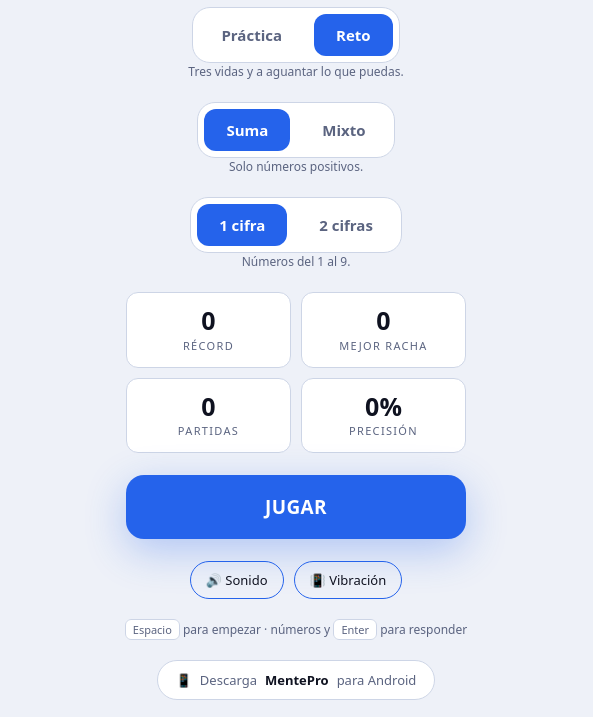
Scenario: MenteRush end to end › agotar el tiempo también falla la ronda
(page scrolled)
Click the button "JUGAR" at (296, 507), box [126,475,466,539]
Wait 12300 ms
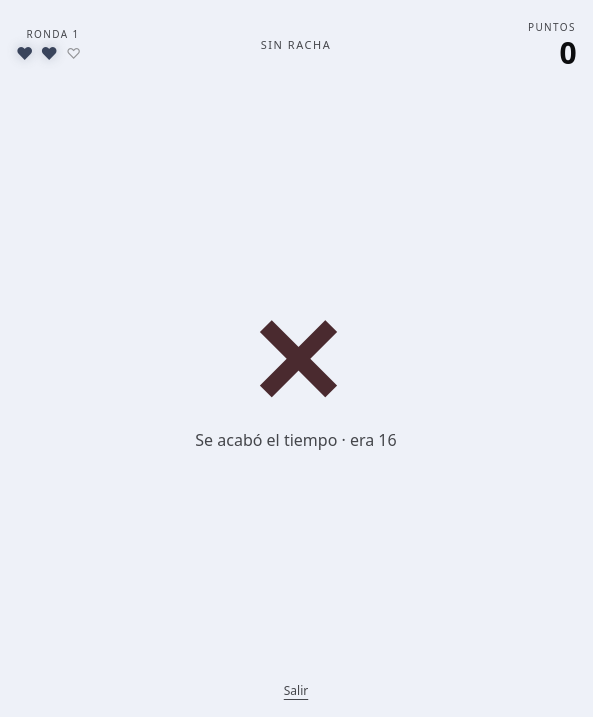
expect the text "Se acabó el tiempo · era 16" is shown: met, box [195,428,397,450]
